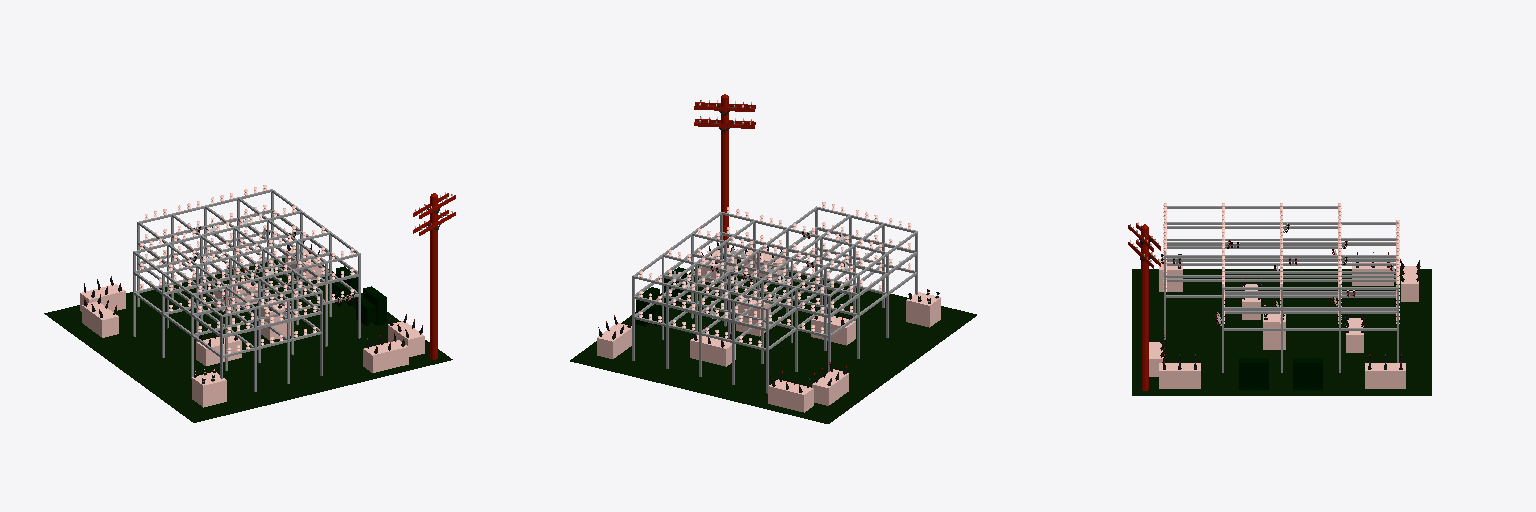
Rendered from station.obj.
3 renders of one model, left to right at view 1: azimuth 30°, elevation 25°; view 2: azimuth 150°, elevation 25°; view 3: azimuth 270°, elevation 25°, orthographic.
Parts seen in each view (by area): view 1: Plane_Plane.002; view 2: Plane_Plane.002; view 3: Plane_Plane.002.
Boxes of the visible parts, x1,y1,x2,y2 form: Plane_Plane.002: [44, 185, 455, 422]; Plane_Plane.002: [570, 94, 976, 423]; Plane_Plane.002: [1128, 203, 1431, 395].
Bounding box in the file's own units: 21 × 12.69 × 20.23.